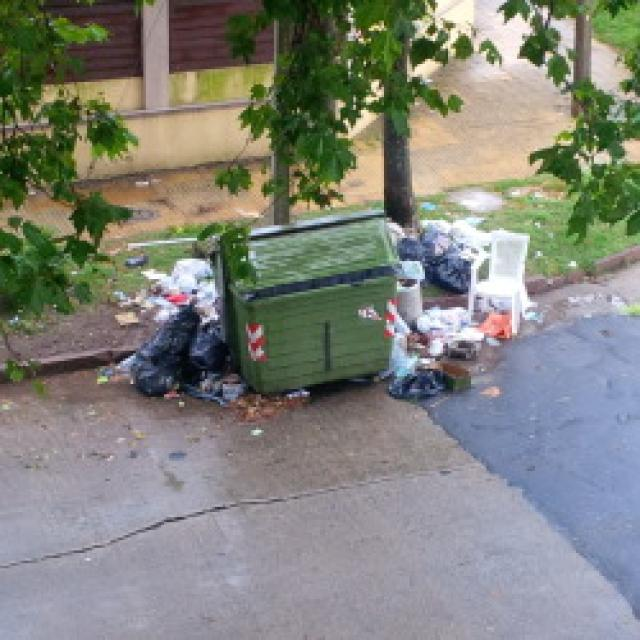garbage: (379, 210, 537, 392), (105, 253, 230, 399)
